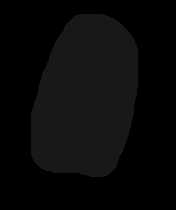fp: (35, 12, 144, 182)
